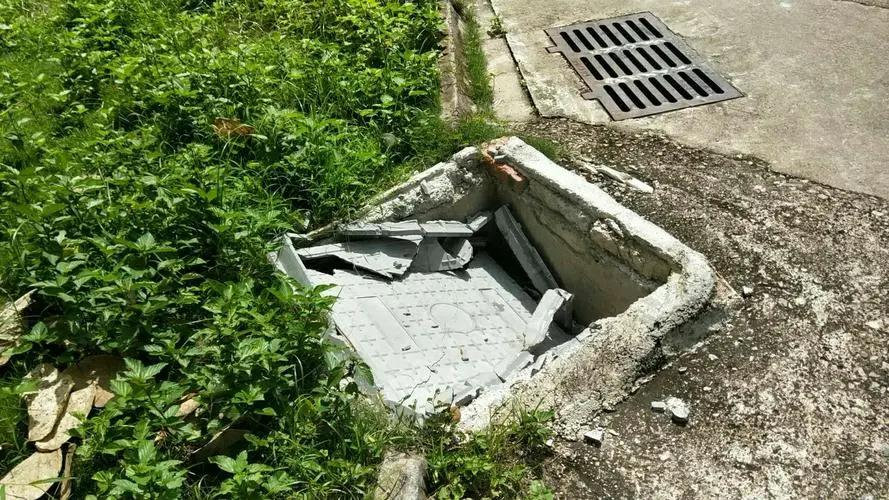wellcover: (258, 188, 641, 430), (523, 9, 758, 120)
